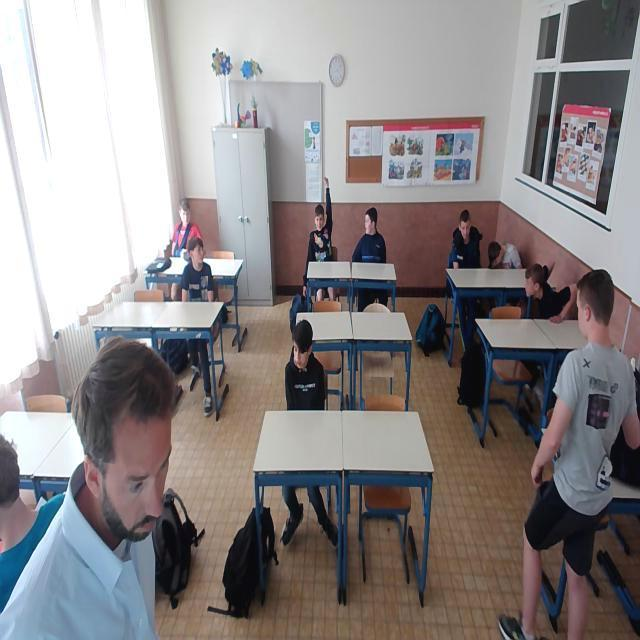Looking away: (288, 322, 314, 369), (187, 234, 207, 267), (459, 207, 472, 241), (362, 208, 377, 236)
Looking forward: (103, 402, 173, 544), (178, 199, 192, 224)
Raising hand: (306, 182, 338, 310)
Turning around: (525, 258, 578, 325)
